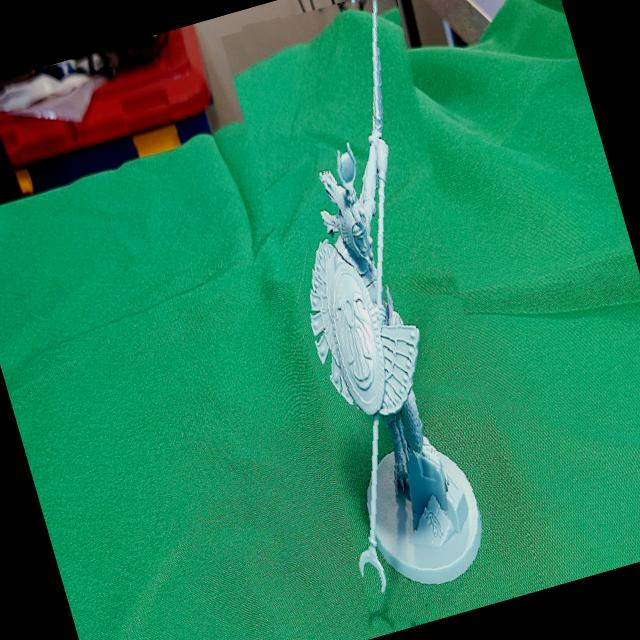isis: (209, 0, 553, 635)
